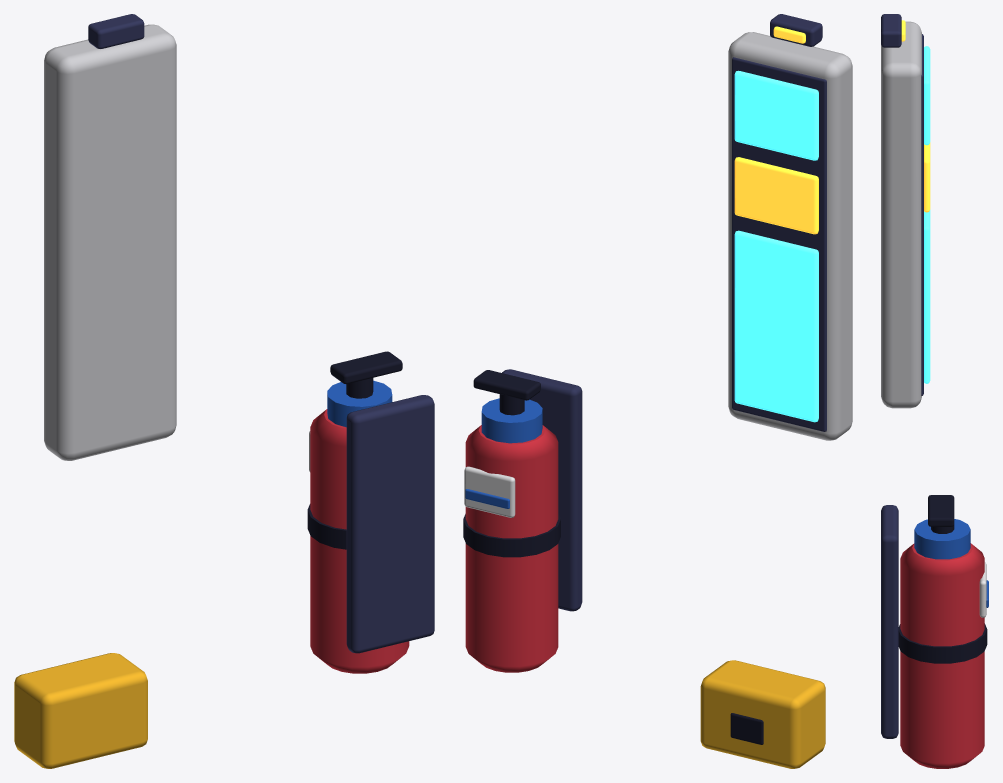
File: prop.props_walls.walls_hall_lampcol.glb
The picture shows the model from 3 angles, left to right: view 1: azimuth 30°, elevation 25°; view 2: azimuth 150°, elevation 25°; view 3: azimuth 270°, elevation 25°; orthographic projection. The views are drawn at different scales.
Visible parts, largest first — view 1: prop.props_walls.walls_hall_lampcol; view 2: prop.props_walls.walls_hall_lampcol; view 3: prop.props_walls.walls_hall_lampcol.
Boxes of the visible parts, box(x1,y1,x2,y2) form: prop.props_walls.walls_hall_lampcol: box(14, 14, 434, 768); prop.props_walls.walls_hall_lampcol: box(463, 14, 852, 768); prop.props_walls.walls_hall_lampcol: box(881, 14, 988, 768).
Bounding box in the file's own units: 0.6348 × 1.21 × 0.184.
